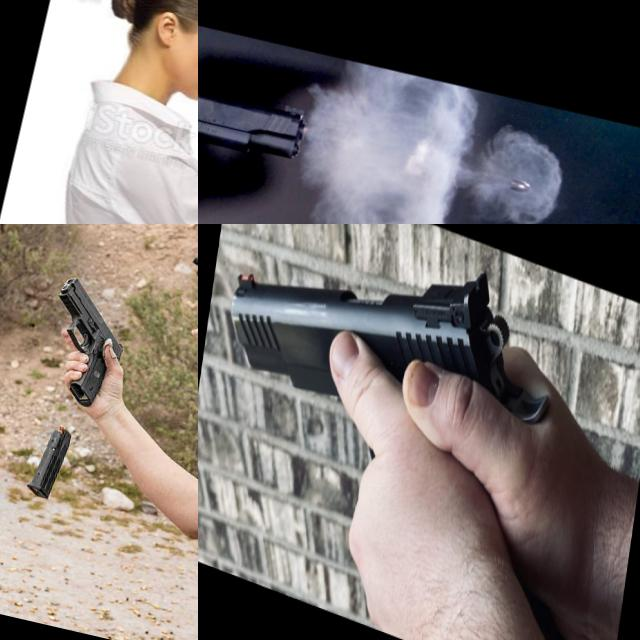handgun: (198, 224, 625, 640), (198, 42, 350, 224), (32, 271, 140, 415), (178, 252, 198, 326)
